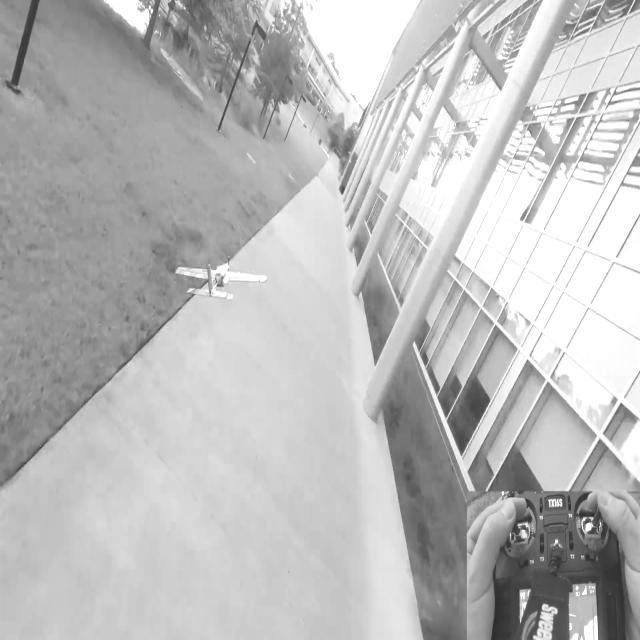iha: (204, 275, 239, 278)
